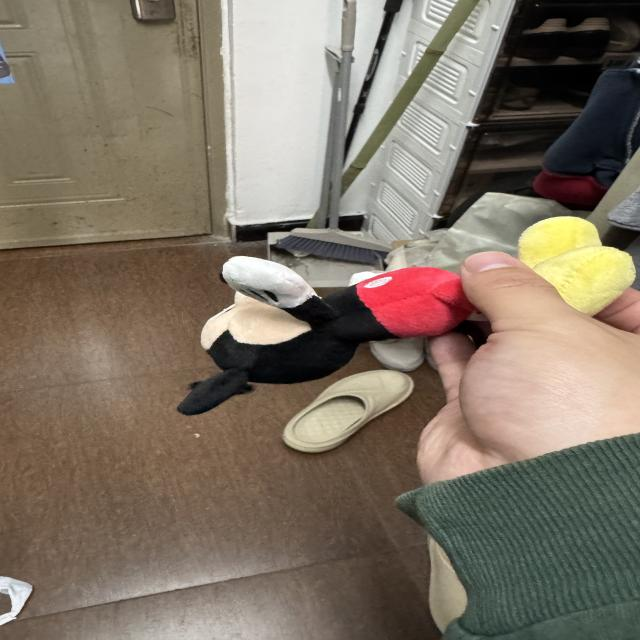mickey: (179, 257, 473, 414)
